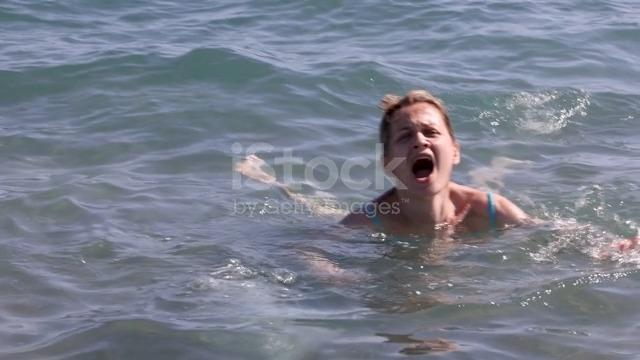drowning: (278, 80, 560, 268)
